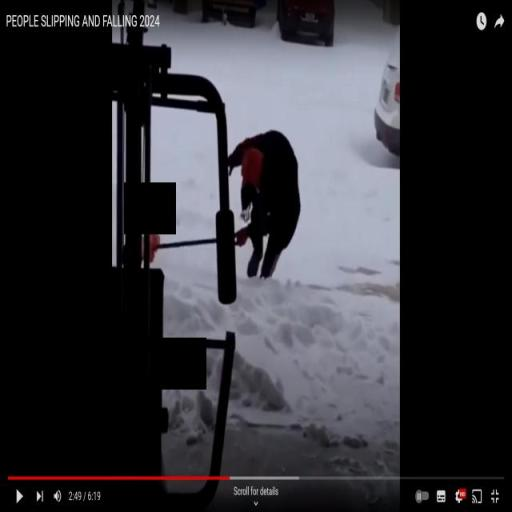Fall: (226, 126, 303, 284)
